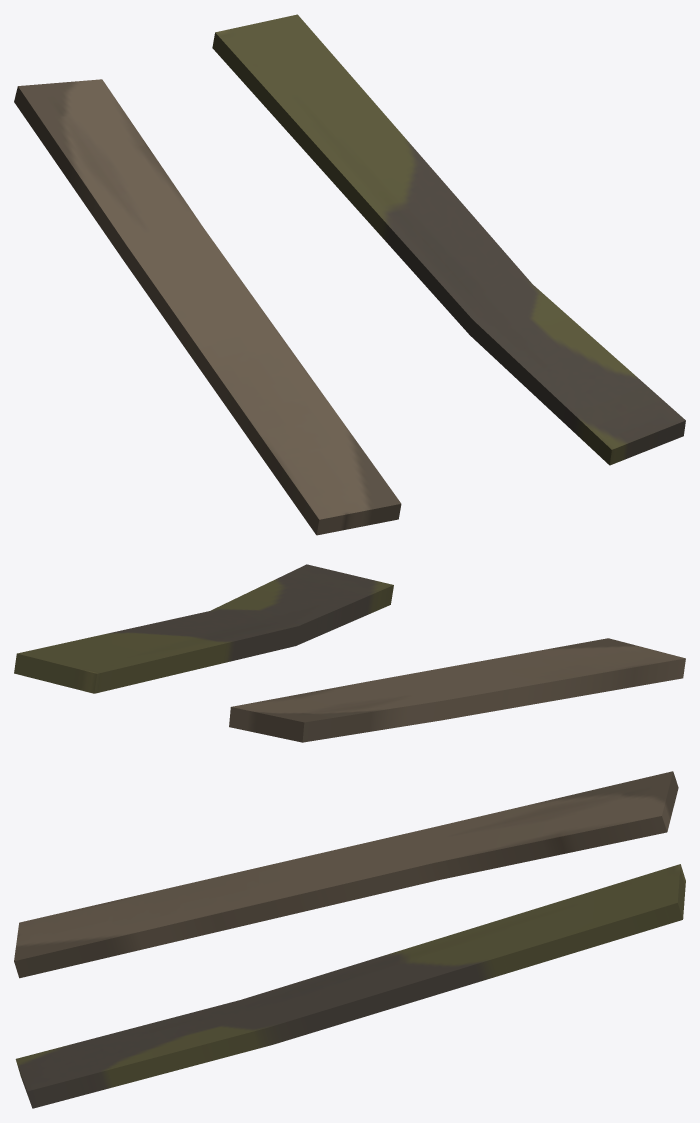
File: SM_Bld_Roof_Planks_03.fbx
3 views of the same model, one above another, from view 1: azimuth 30°, elevation 25°; view 2: azimuth 150°, elevation 25°; view 3: azimuth 270°, elevation 25° (orthographic). The views are drawn at different scales.
Visible parts, largest first — view 1: SM_Bld_Roof_Planks_03; view 2: SM_Bld_Roof_Planks_03; view 3: SM_Bld_Roof_Planks_03.
Boxes of the visible parts, x1=… form: SM_Bld_Roof_Planks_03: x1=14, y1=14, x2=685, y2=535; SM_Bld_Roof_Planks_03: x1=14, y1=564, x2=685, y2=742; SM_Bld_Roof_Planks_03: x1=14, y1=771, x2=685, y2=1108.
Size of the model in its own units: 151 by 76.24 by 245.
